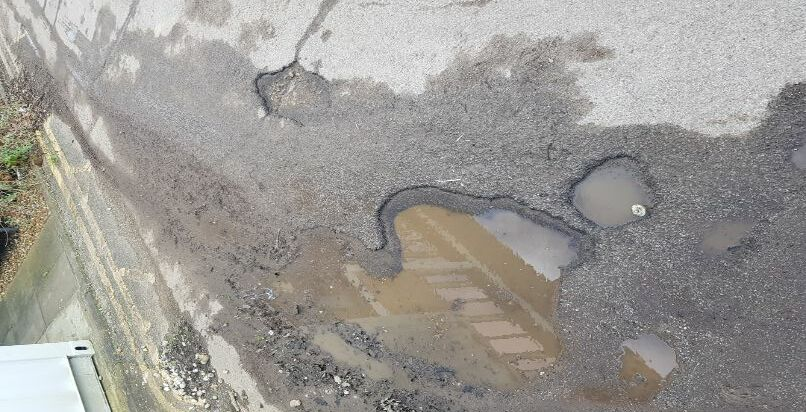pothole: (252, 177, 596, 389), (562, 148, 666, 236), (250, 57, 339, 134)
